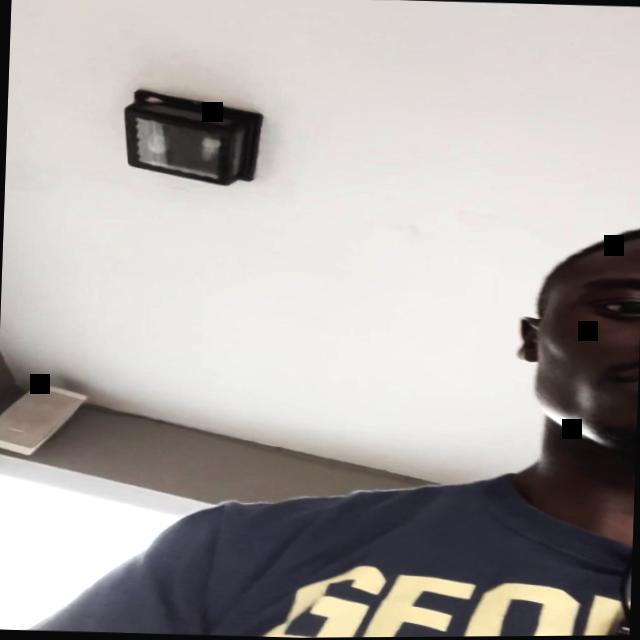NO-Mask: (525, 226, 640, 459)
